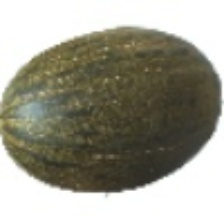honeydew: (34, 32, 173, 181)
